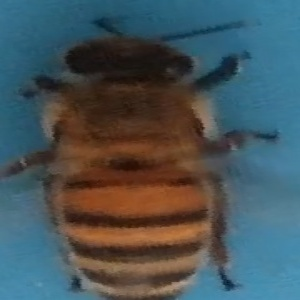bee: (8, 15, 287, 300)
